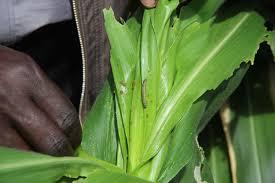fallarmy_worm: (139, 78, 151, 110)
